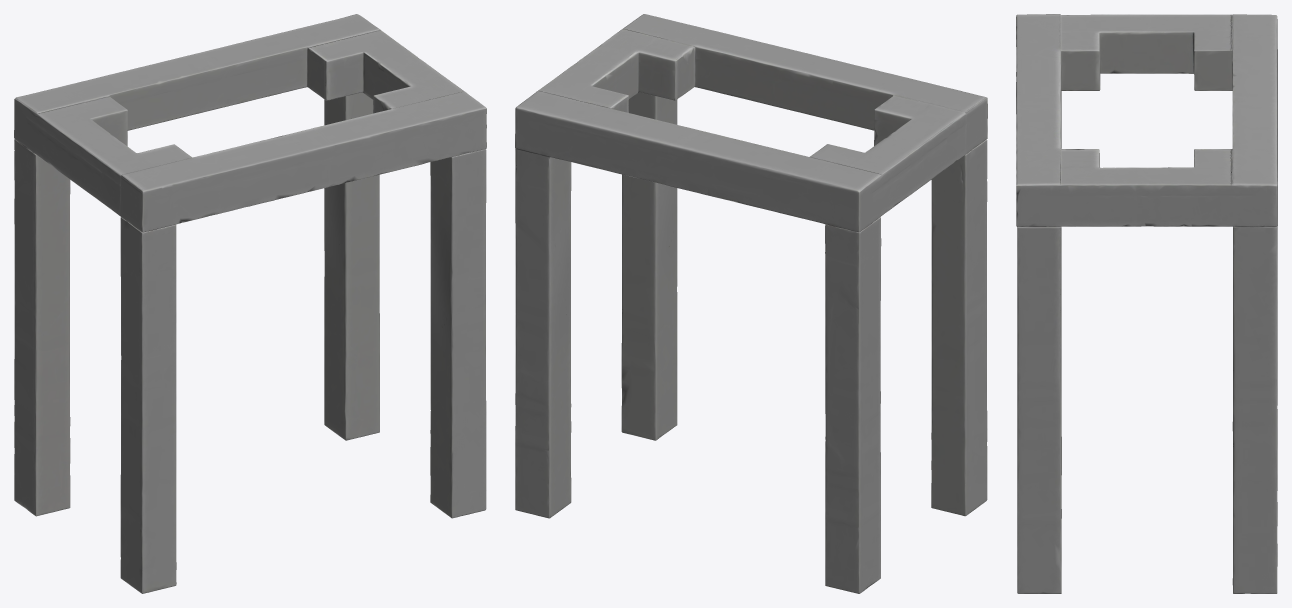
Rendered from chuppah-frame-chrome.glb.
3 views of the same model, side by side, from view 1: azimuth 30°, elevation 25°; view 2: azimuth 150°, elevation 25°; view 3: azimuth 270°, elevation 25° (orthographic).
Parts seen in each view (by area): view 1: tripo_node_3abf3564-e5e5-4e8c-9667-a48f587d9ef1; view 2: tripo_node_3abf3564-e5e5-4e8c-9667-a48f587d9ef1; view 3: tripo_node_3abf3564-e5e5-4e8c-9667-a48f587d9ef1.
Boxes of the visible parts, x1,y1,x2,y2 form: tripo_node_3abf3564-e5e5-4e8c-9667-a48f587d9ef1: (14, 14, 486, 593); tripo_node_3abf3564-e5e5-4e8c-9667-a48f587d9ef1: (515, 14, 987, 593); tripo_node_3abf3564-e5e5-4e8c-9667-a48f587d9ef1: (1016, 14, 1277, 593).
Size of the model in its own units: 2.5 by 2.8 by 1.62.
1 material, 1 textured.
